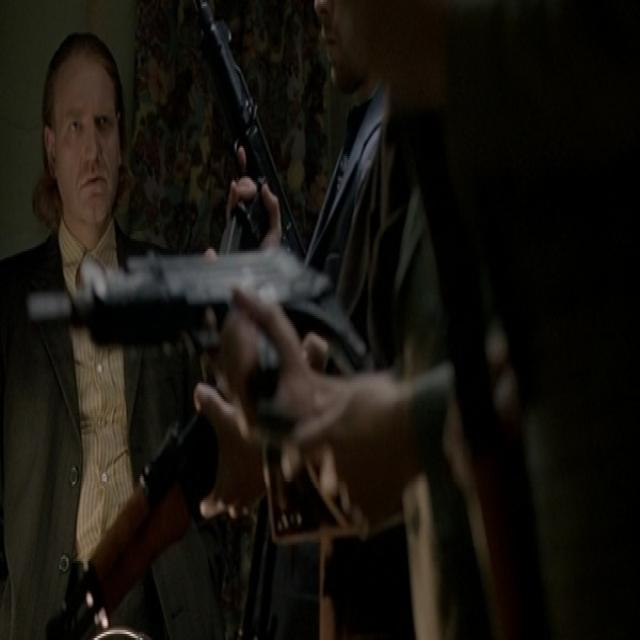rifle: (32, 226, 371, 407), (196, 1, 307, 261)
